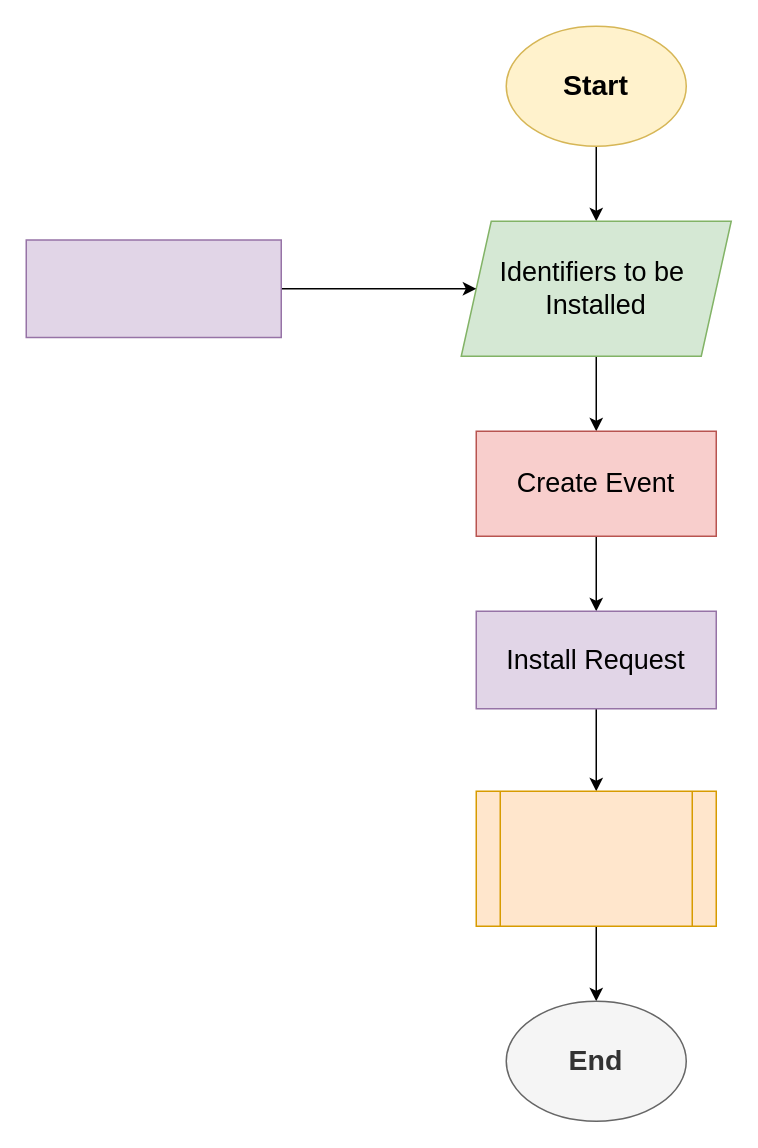
Image size: 758x1148. Some labels were removed from this diagram. The shapes that lost their labels are listed below. From the top down, each one's centre as x and y in pixels, then its label:
At point 153,288: "Create Area".
At point 595,858: "Request Approval".
